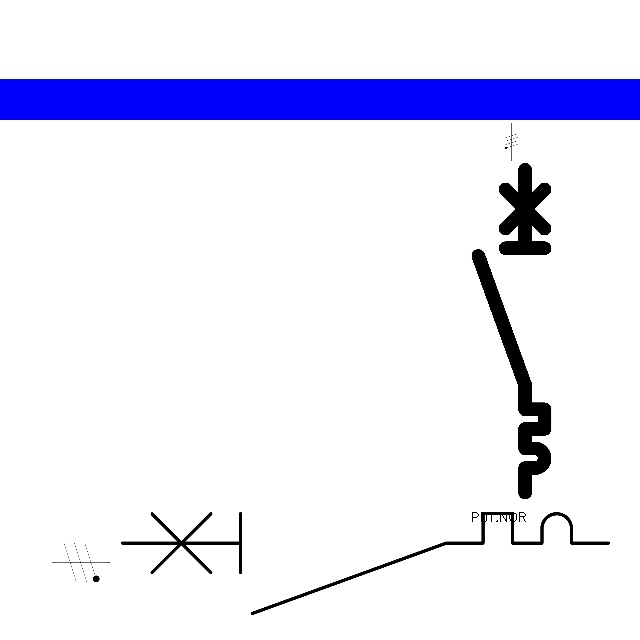interruptor_termomagnetico: (109, 501, 621, 626), (470, 161, 553, 501)
